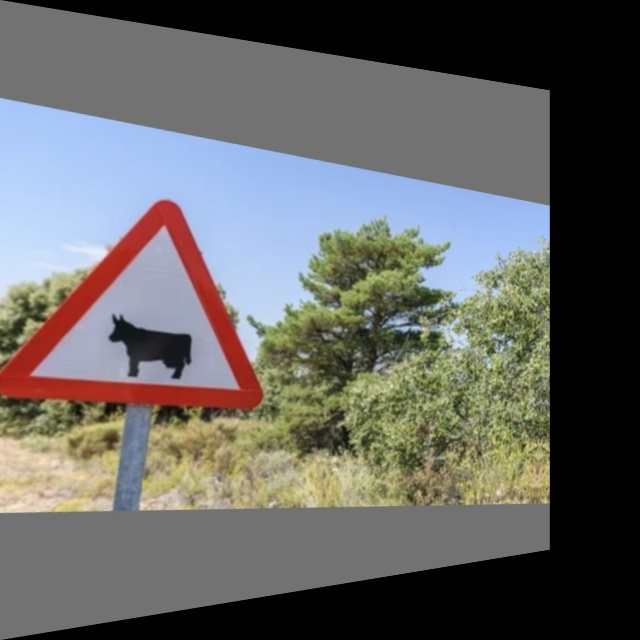Cattle: (31, 191, 268, 421)
